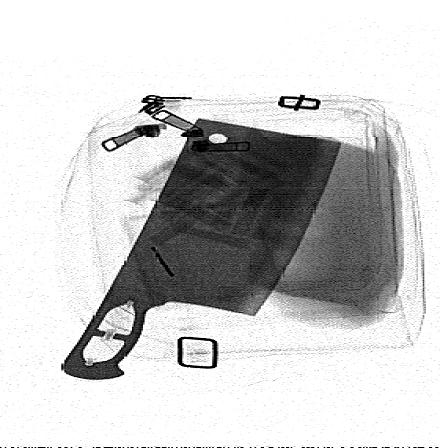Knife: (59, 116, 345, 381)
